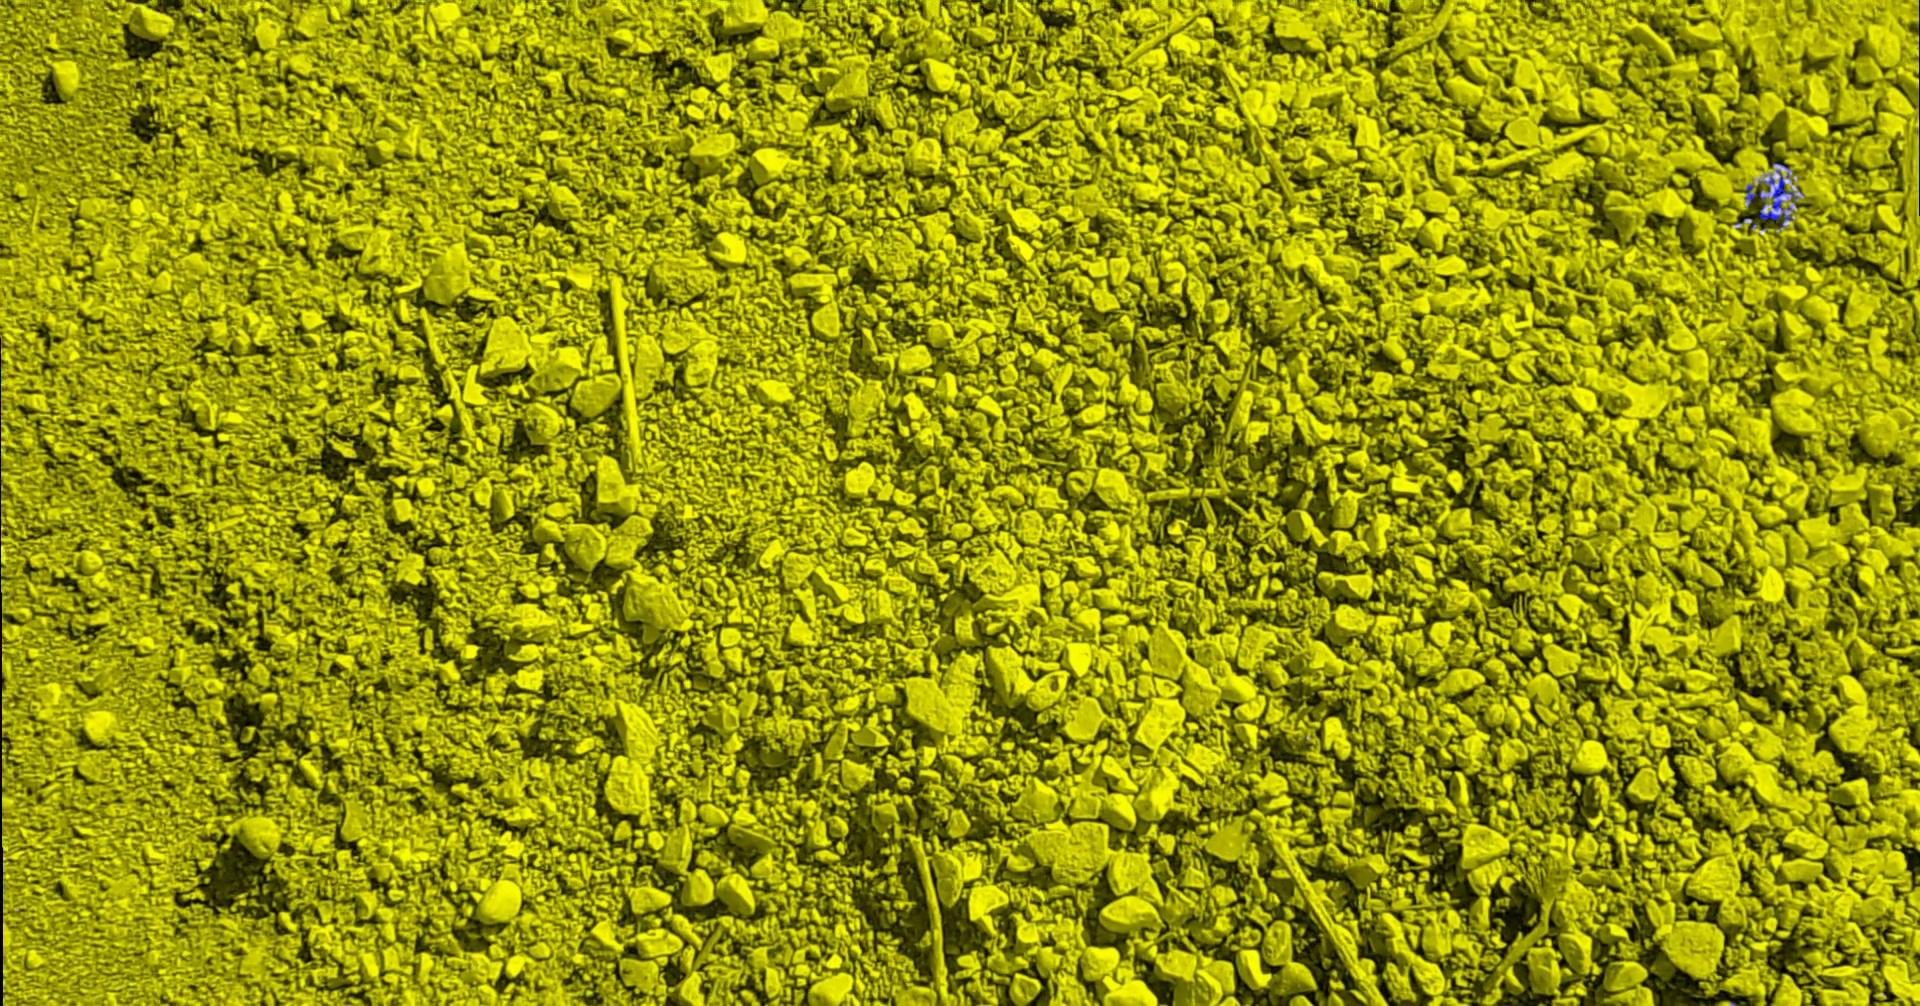ant: (1746, 163, 1799, 227)
